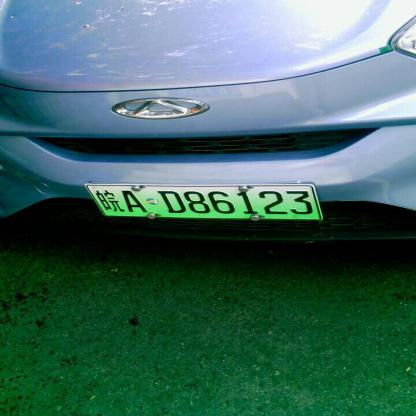lp: (86, 185, 321, 218)
